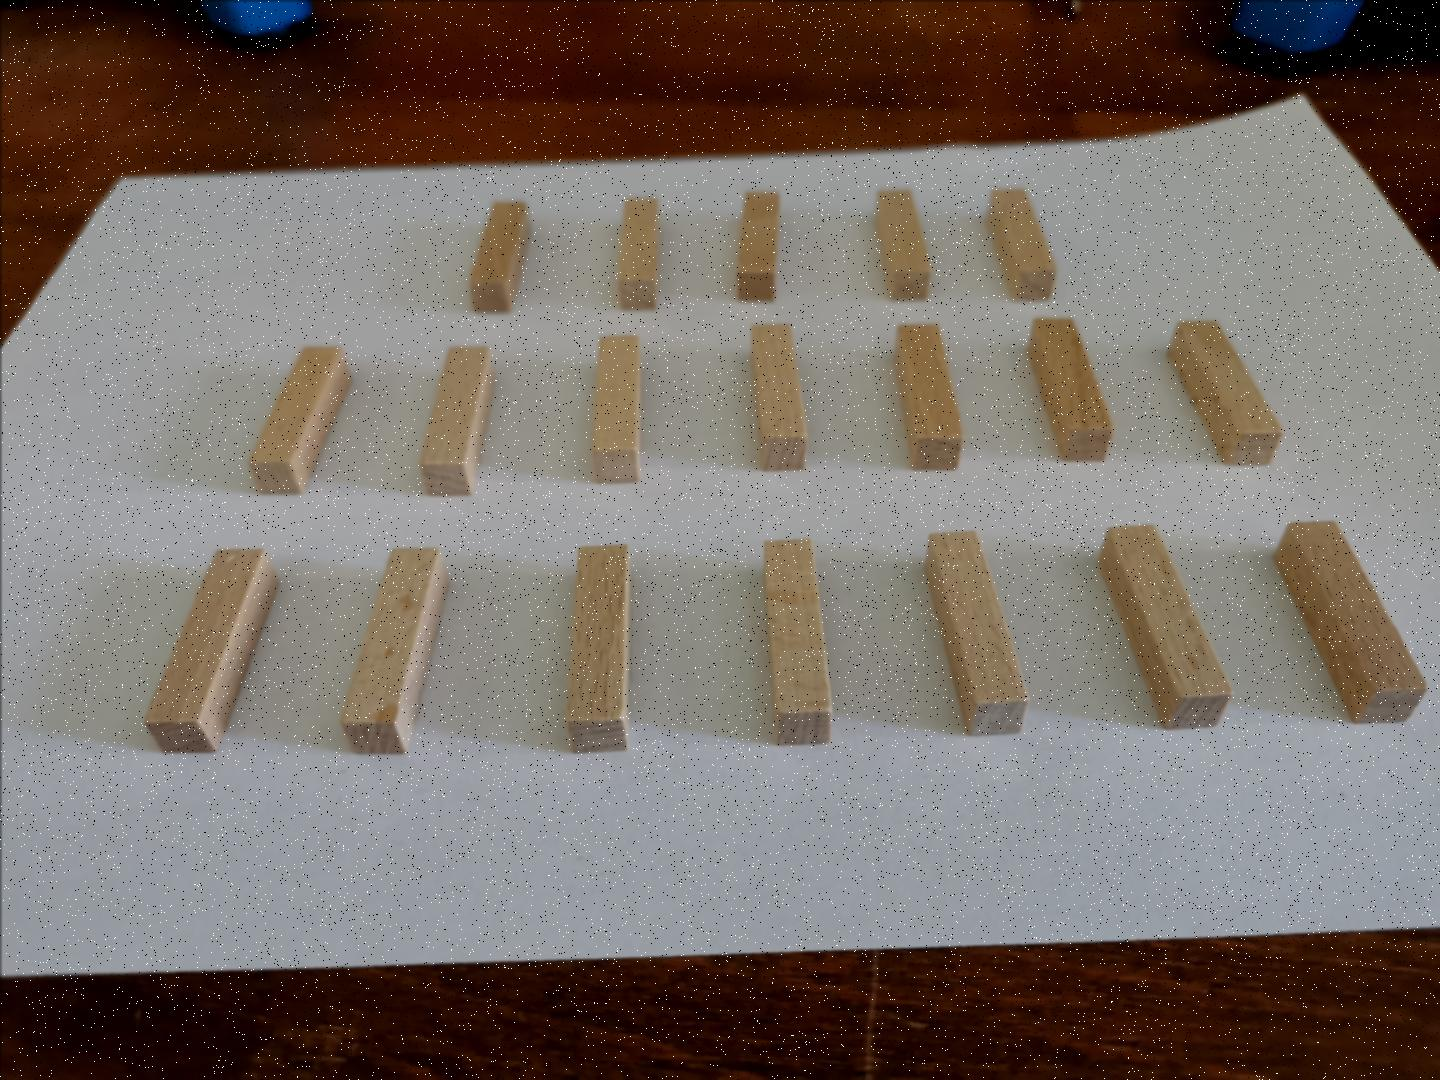jenga: (1274, 521, 1426, 723), (144, 548, 279, 751), (1100, 523, 1231, 728), (340, 548, 447, 753), (925, 532, 1026, 734), (1167, 321, 1280, 464), (247, 346, 349, 492), (762, 538, 830, 742), (566, 542, 627, 751), (1026, 318, 1111, 462), (420, 346, 495, 495), (895, 323, 962, 470), (751, 323, 807, 470), (988, 188, 1054, 298), (591, 335, 638, 481), (469, 200, 528, 312), (874, 188, 929, 298), (737, 192, 779, 301), (619, 197, 658, 310)
